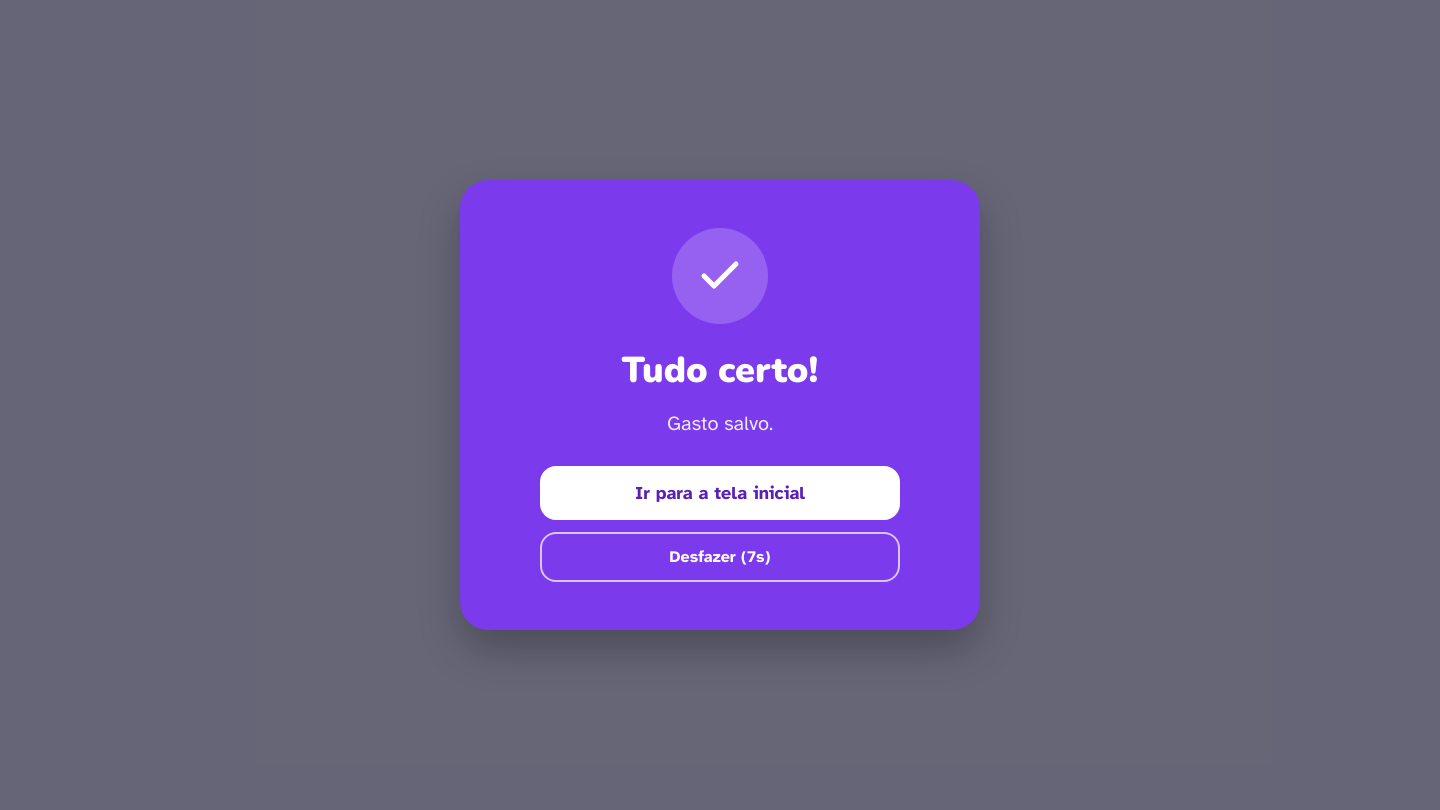
it: Componente ConfirmacaoSucesso › pausa a contagem enquanto o usuário interage com o botão Desfazer (WCAG 2.2.1)
This screenshot has width=1440, height=810.
Focus the button "Desfazer (7s)" at (720, 557), box [540, 532, 900, 582]
Wait 10000 ms
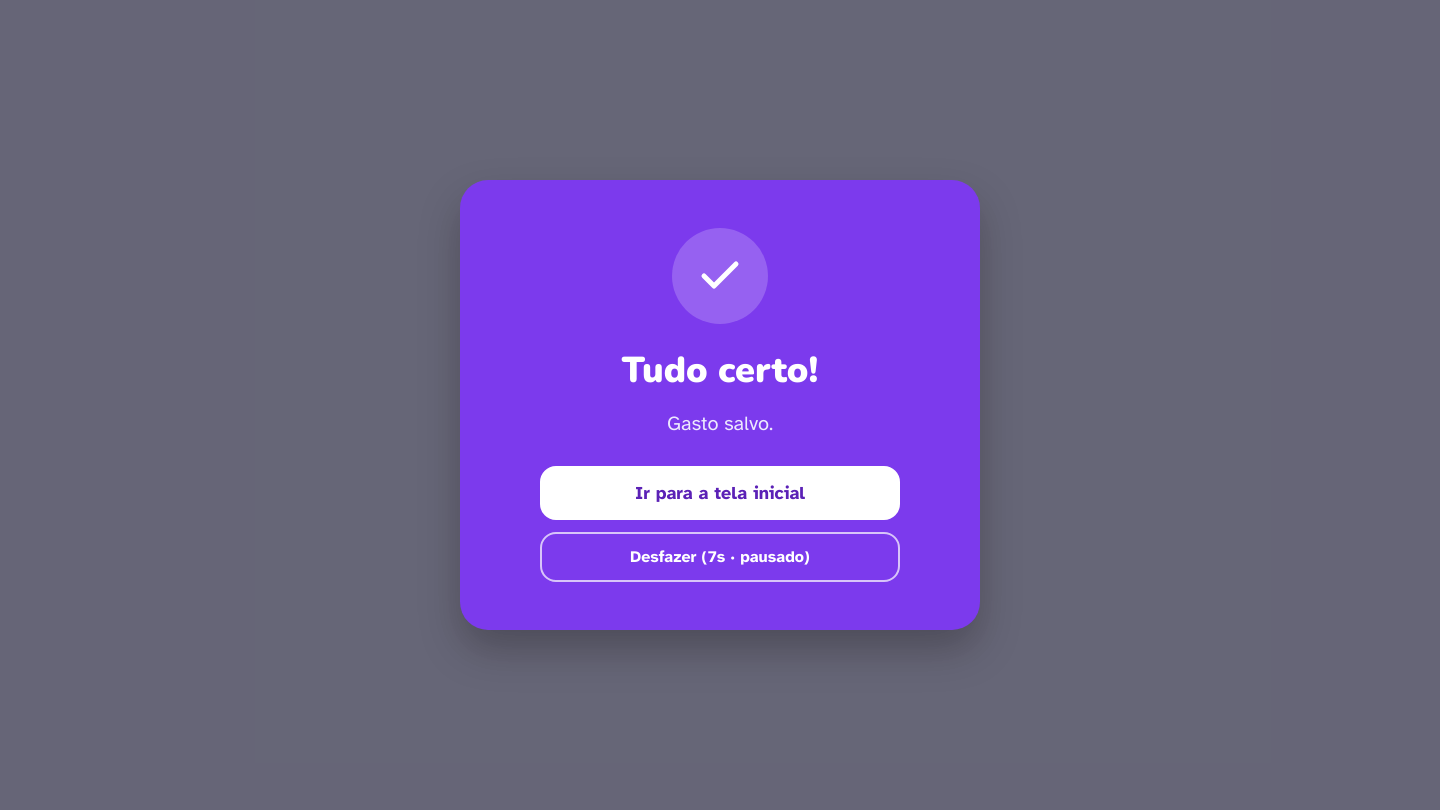
Now the button "Desfazer (7s · pausado)" is shown
Leave the button "Desfazer (7s · pausado)", box [540, 532, 900, 582]
Wait 7000 ms
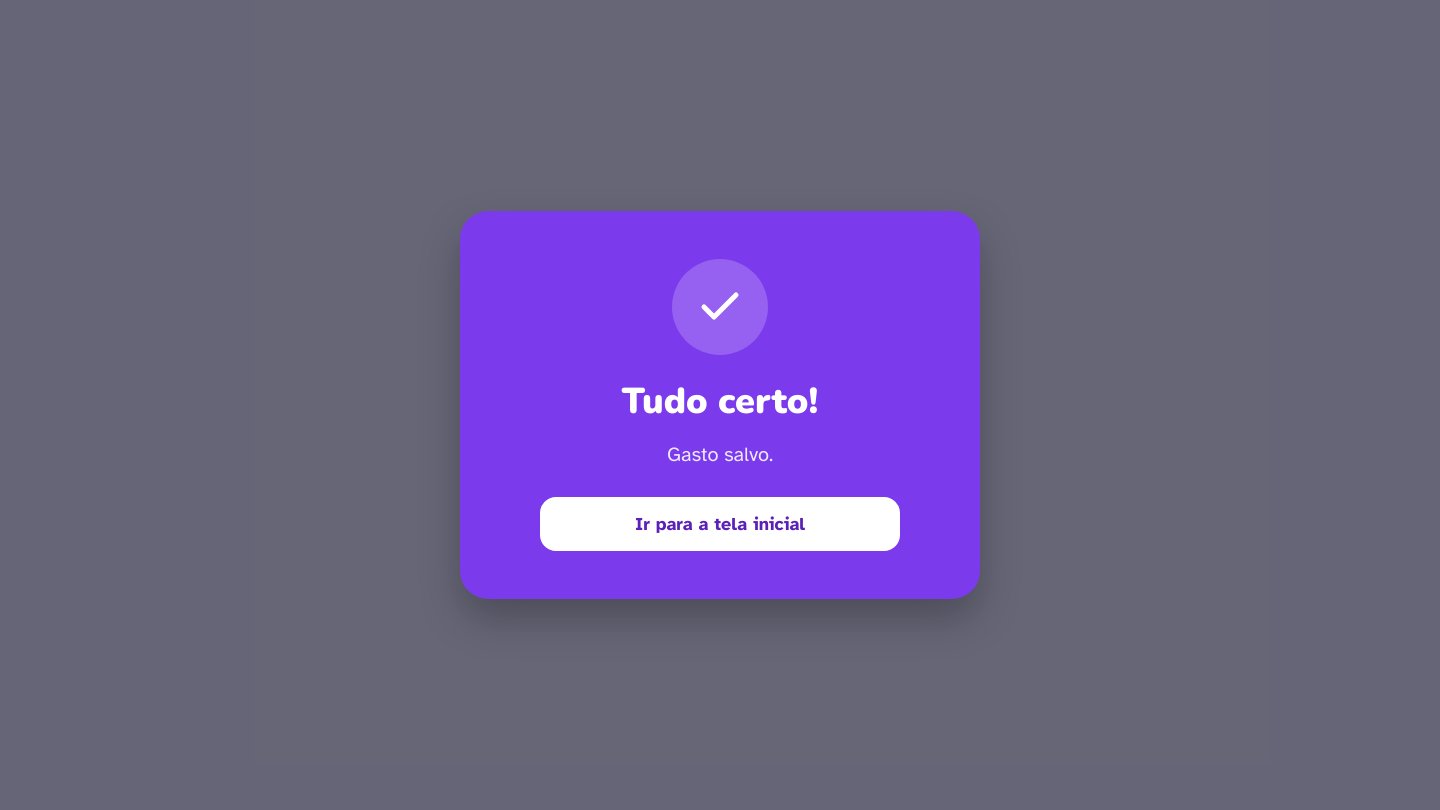
Now the button "Desfazer" is gone
